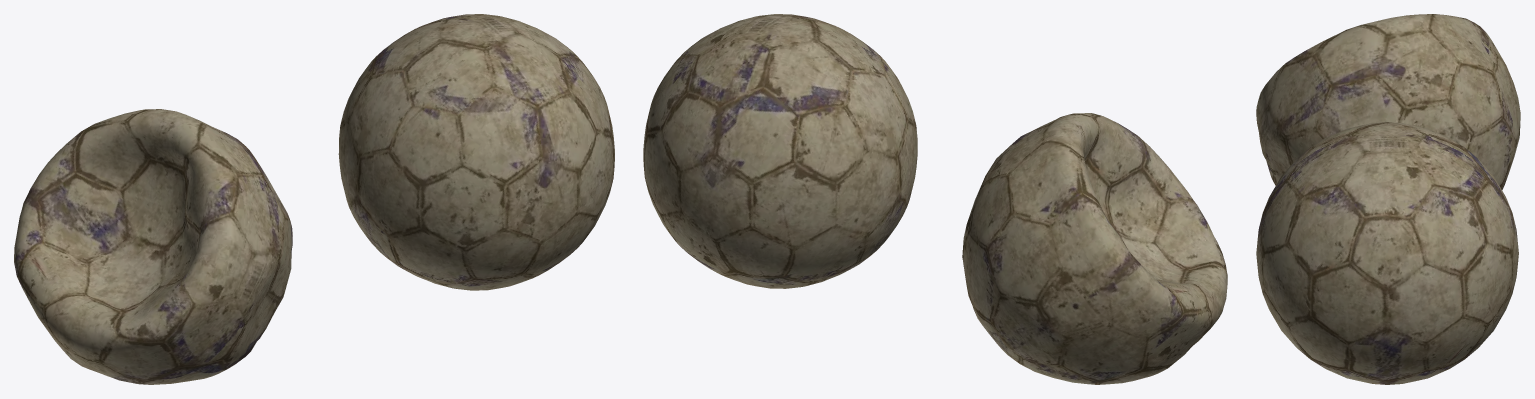
File: football.glb
3 renders of one model, left to right at view 1: azimuth 30°, elevation 25°; view 2: azimuth 150°, elevation 25°; view 3: azimuth 270°, elevation 25°, orthographic. The views are drawn at different scales.
Parts seen in each view (by area): view 1: football_deflated; view 2: football_deflated; view 3: football_deflated.
Part boxes in pixels (box(x1,y1,x2,y2)): football_deflated: box(14, 14, 614, 384); football_deflated: box(643, 14, 1227, 384); football_deflated: box(1256, 14, 1520, 384).
Bounding box in the file's own units: 0.5089 × 0.2219 × 0.2222.
1 material, 1 textured.
